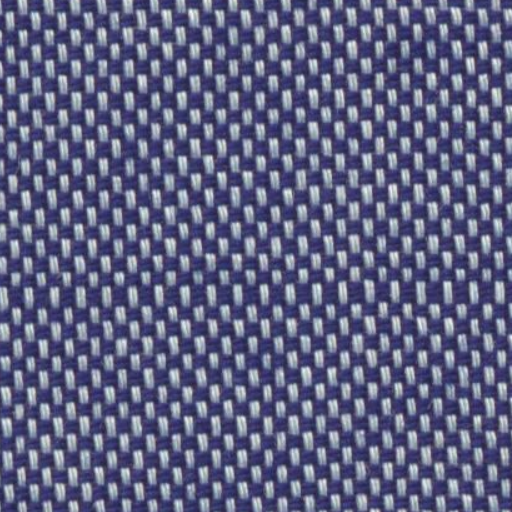TuoSha: (21, 218, 502, 308)
